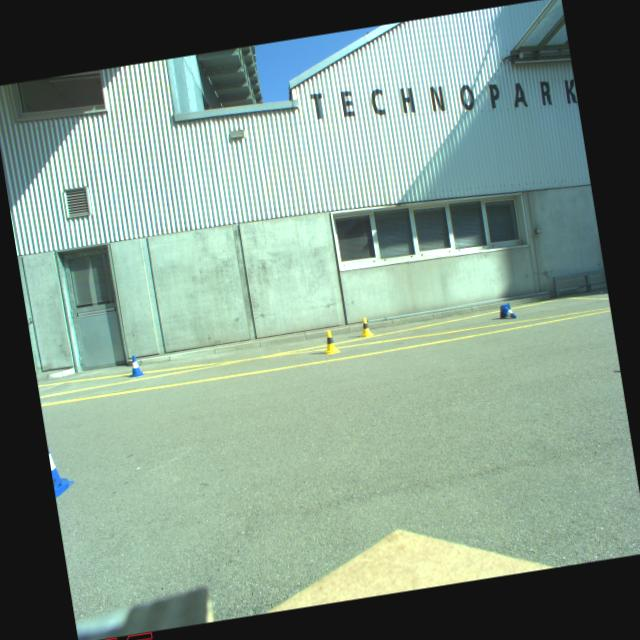blue_cone: (126, 354, 146, 378), (498, 302, 516, 320)
yellow_cone: (320, 329, 340, 355), (357, 316, 374, 338)
